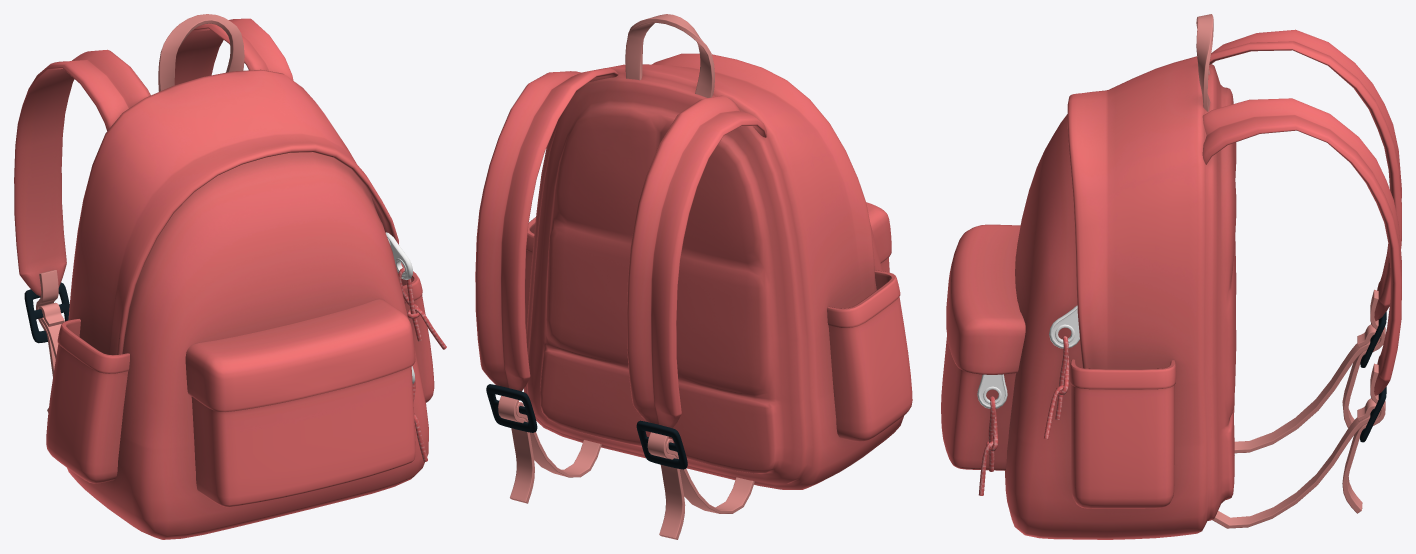
File: backpack.glb
The picture shows the model from 3 angles, left to right: view 1: azimuth 30°, elevation 25°; view 2: azimuth 150°, elevation 25°; view 3: azimuth 270°, elevation 25°; orthographic projection. The views are drawn at different scales.
Visible parts, largest first — view 1: Backpack; view 2: Backpack; view 3: Backpack.
Boxes of the visible parts, x1,y1,x2,y2 form: Backpack: (14,14,446,539); Backpack: (475,14,912,539); Backpack: (941,14,1401,539).
Bounding box in the file's own units: 0.9293 × 1.12 × 0.9977.
1 material, 1 textured.
